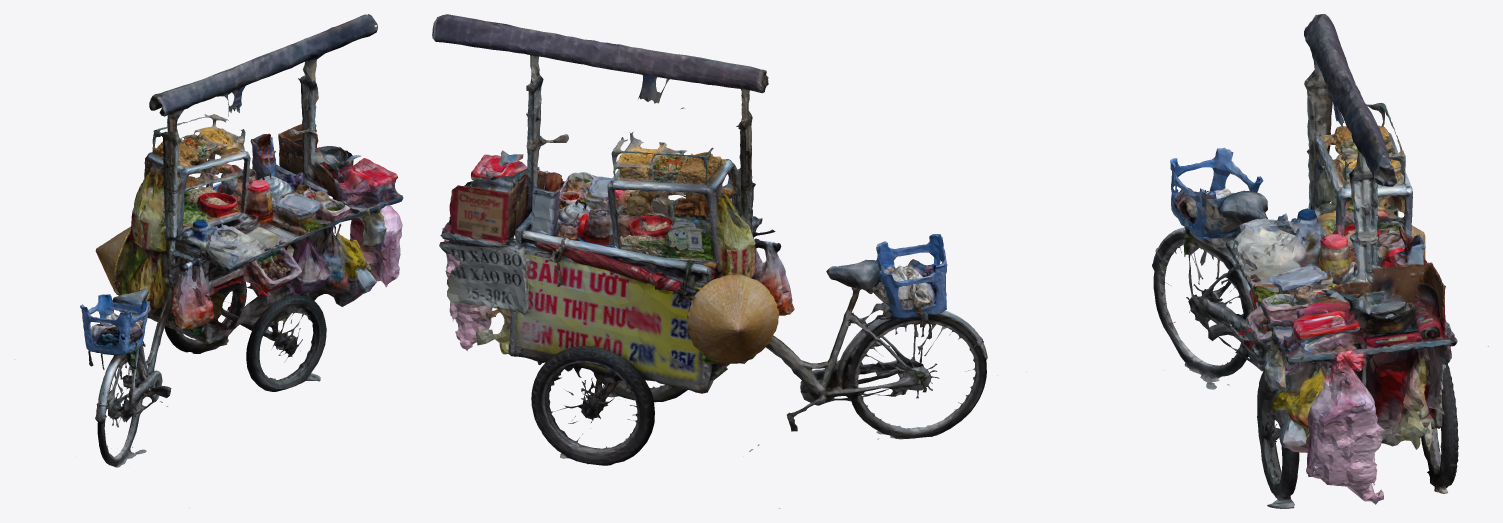
Rendered from xebanhuot_seperate.glb.
3 views of the same model, side by side, from view 1: azimuth 30°, elevation 25°; view 2: azimuth 150°, elevation 25°; view 3: azimuth 270°, elevation 25° (orthographic). The views are drawn at different scales.
Visible parts, largest first — view 1: Mesh_0; view 2: Mesh_0; view 3: Mesh_0.
Boxes of the visible parts, x1=… form: Mesh_0: x1=80, y1=14, x2=403, y2=508; Mesh_0: x1=432, y1=14, x2=997, y2=508; Mesh_0: x1=1026, y1=14, x2=1488, y2=508.
Size of the model in its own units: 1.53 by 1.26 by 1.27.
1 material, 1 textured.
